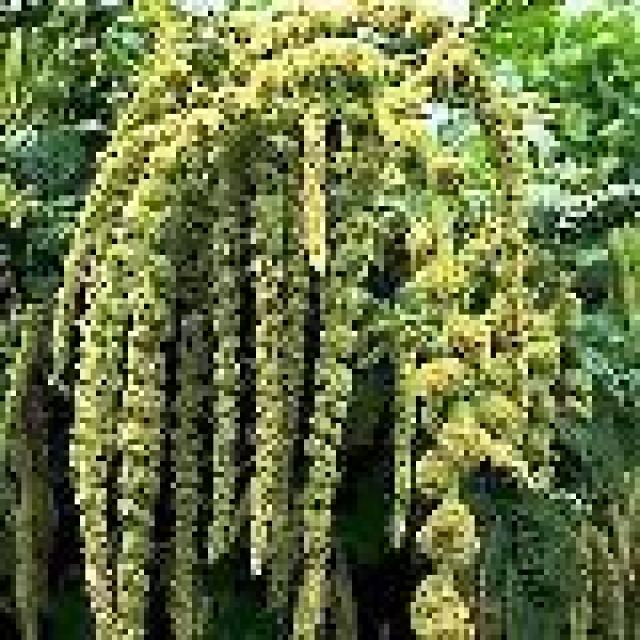Medicinal-Arive Dantu: (99, 44, 540, 504)
